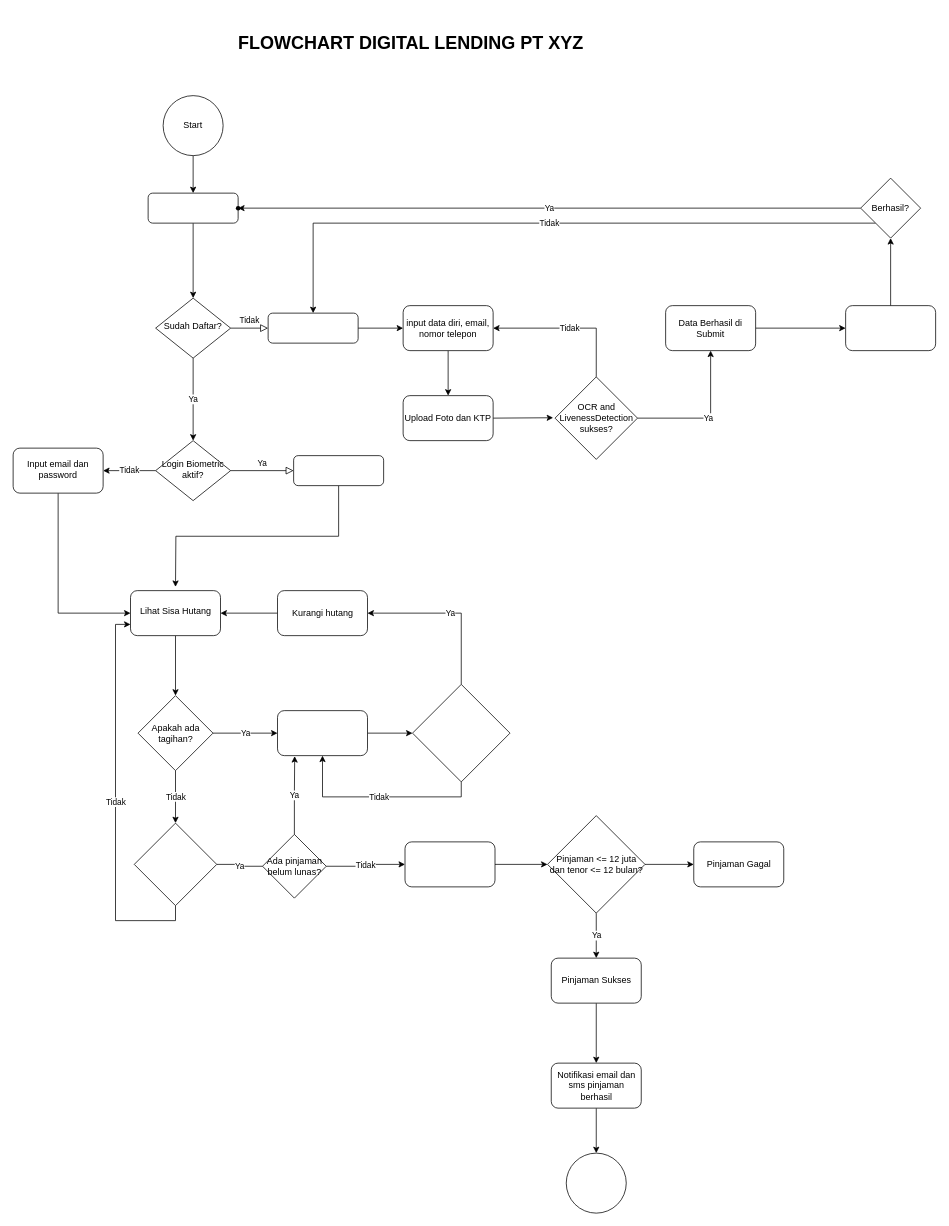
The diagram is 949 pixels wide and 1226 high, and some of its shapes have lost their labels. The box of each missing label's shape, as (x1, y1, x2, y2) in pixels:
Aktivasi akun: (845, 305, 936, 351)
End: (566, 1152, 626, 1213)
Ingin membayar tagihan bulan ini?: (412, 684, 510, 782)
ingin meminjam uang?: (134, 822, 217, 906)
Login: (147, 192, 238, 223)
Login Dengan Biometriks: (293, 455, 384, 486)
Melakukan pendaftaran: (267, 312, 358, 343)
Proses Peminjaman: (404, 841, 495, 887)
Tampil tagihan perbulan: (277, 710, 368, 756)
